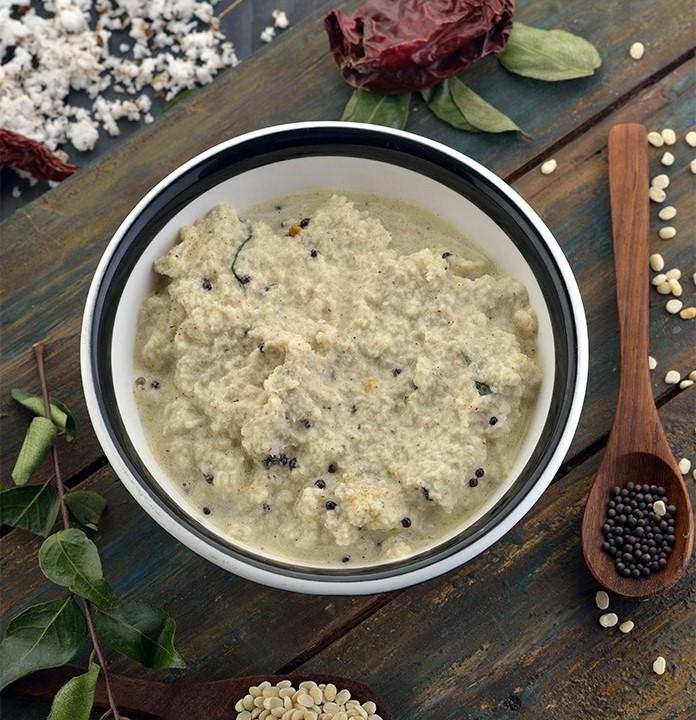CoconutChutney: (132, 193, 536, 565)
